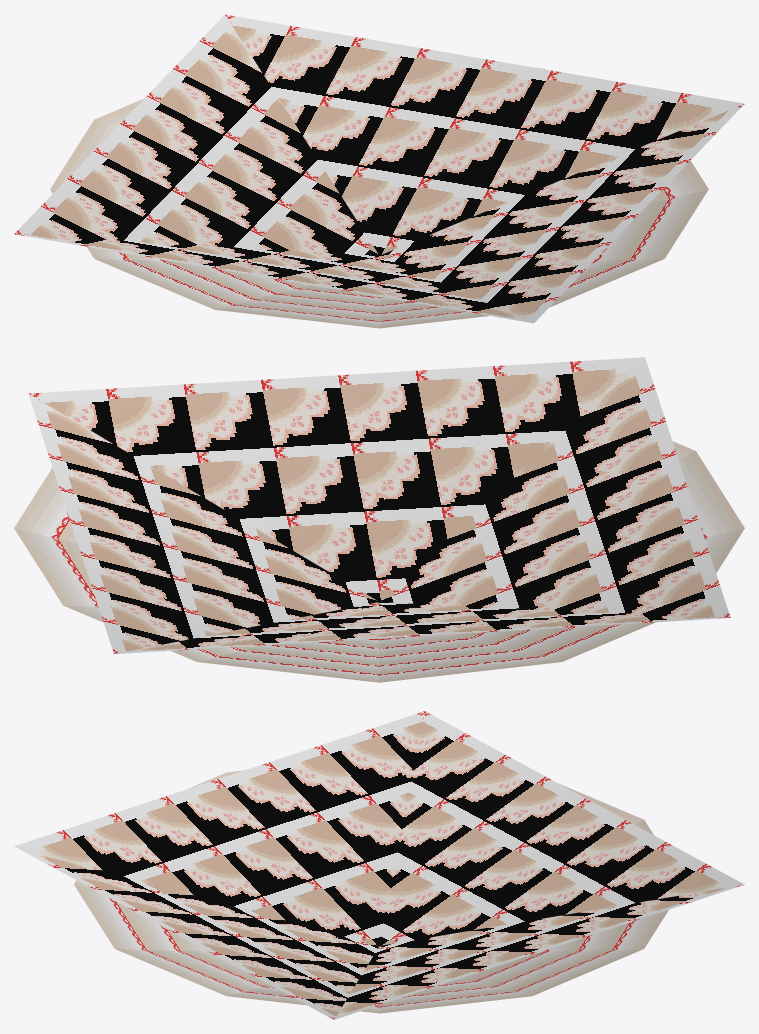
The model's file is dornut.gltf.
The picture shows the model from 3 angles, top to bottom: view 1: azimuth 30°, elevation 25°; view 2: azimuth 150°, elevation 25°; view 3: azimuth 270°, elevation 25°; orthographic projection. The views are drawn at different scales.
Visible parts, largest first — view 1: dornut; view 2: dornut; view 3: dornut.
Part boxes in pixels (x1,y1,x2,y2): dornut: [14, 14, 744, 328]; dornut: [14, 357, 744, 682]; dornut: [14, 711, 744, 1019].
Bounding box in the file's own units: 1.08 × 0.1484 × 1.08.
2 materials, 2 textured.
